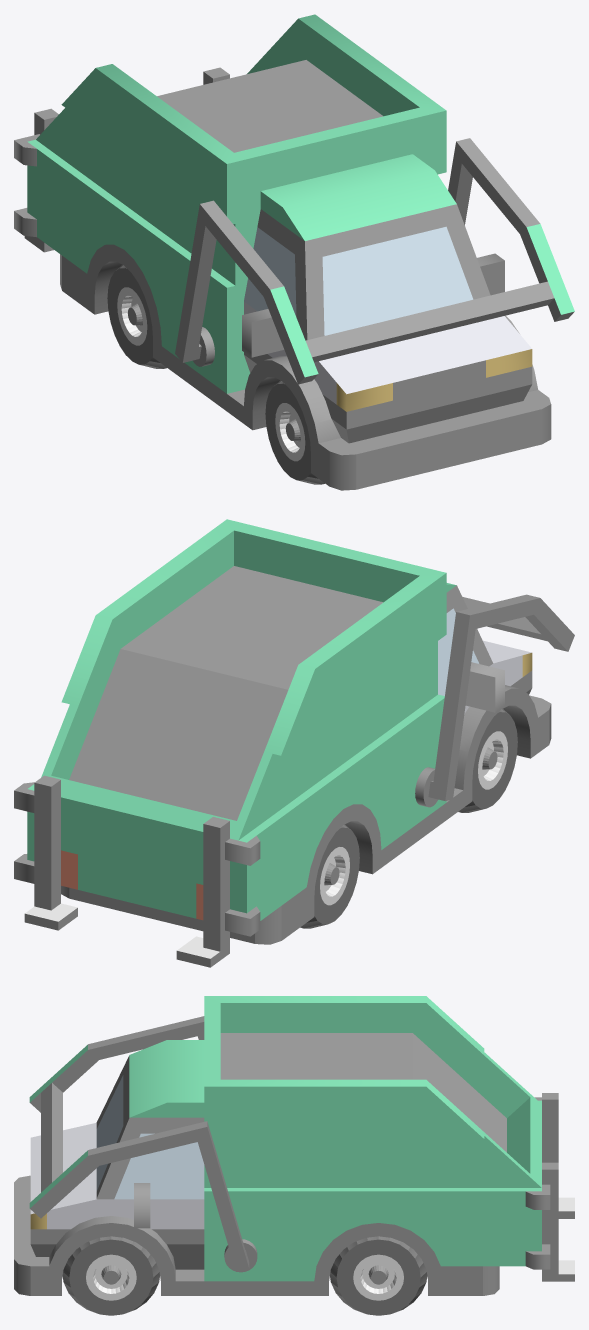
Rendered from car9.fbx.
The picture shows the model from 3 angles, top to bottom: view 1: azimuth 30°, elevation 25°; view 2: azimuth 150°, elevation 25°; view 3: azimuth 270°, elevation 25°; orthographic projection. The views are drawn at different scales.
Visible parts, largest first — view 1: car.008; view 2: car.008; view 3: car.008.
Part boxes in pixels (left/top/right/bottom): car.008: left=14, top=14, right=574, bottom=490; car.008: left=14, top=519, right=574, bottom=967; car.008: left=14, top=996, right=574, bottom=1315.
Size of the model in its own units: 320 by 320 by 680.
